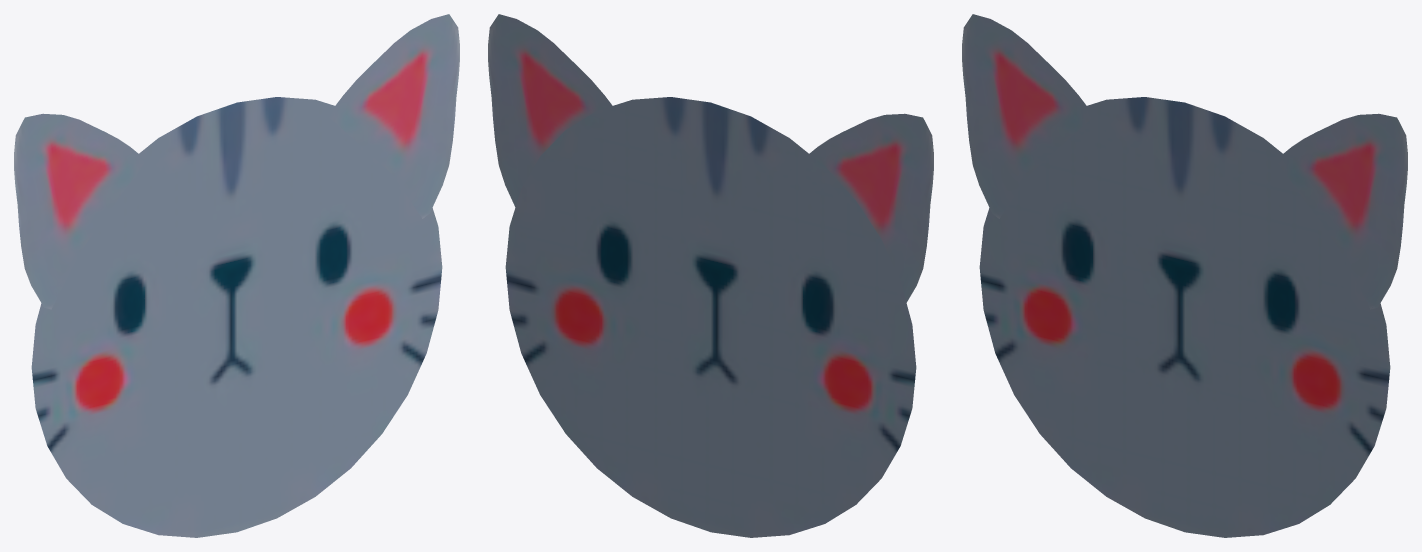
Rendered from Cat.fbx.
3 views of the same model, side by side, from view 1: azimuth 30°, elevation 25°; view 2: azimuth 150°, elevation 25°; view 3: azimuth 330°, elevation 25° (orthographic).
Visible parts, largest first — view 1: Cat; view 2: Cat; view 3: Cat.
Part boxes in pixels (bbox=[...]): Cat: bbox=[14, 14, 459, 537]; Cat: bbox=[488, 14, 933, 537]; Cat: bbox=[962, 14, 1407, 537].
Size of the model in its own units: 217 by 217 by 2.32e-05.
